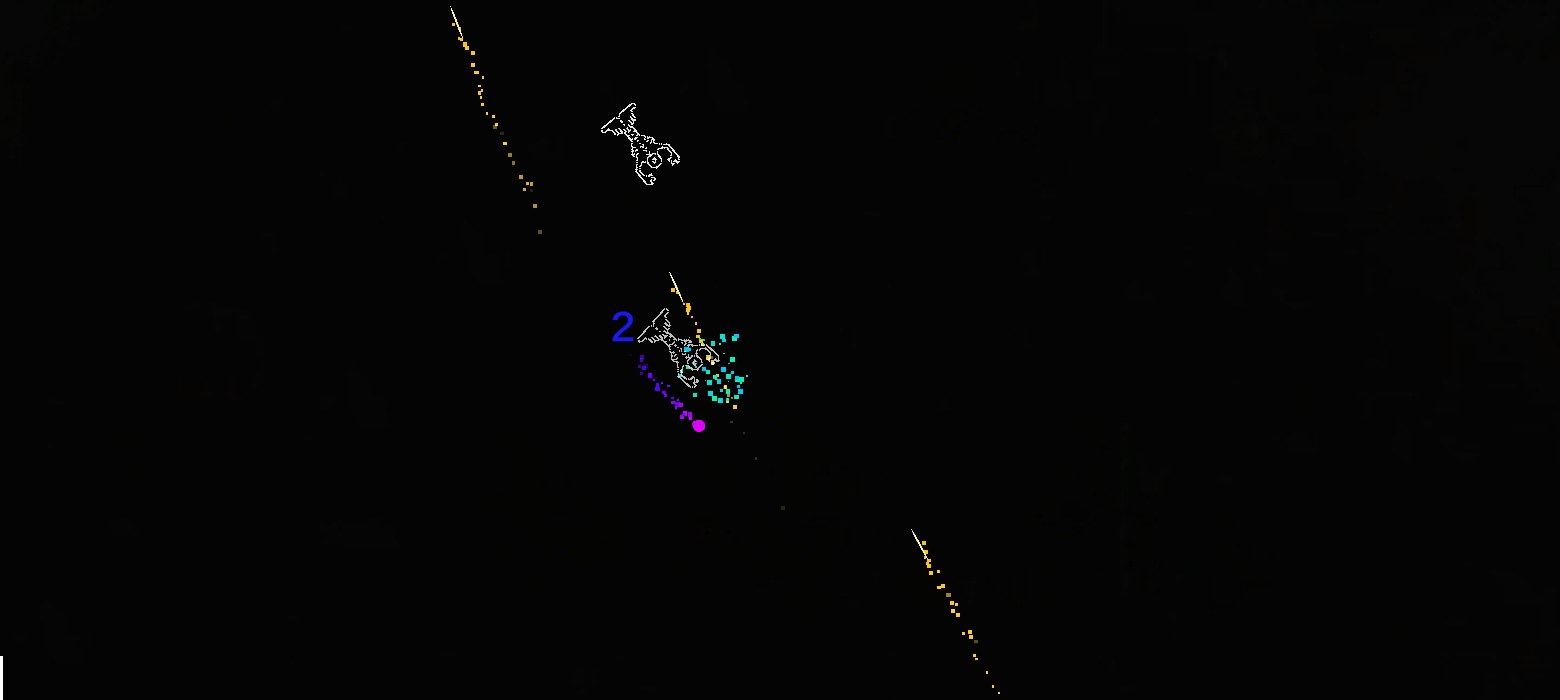enemy: (636, 307, 720, 389), (599, 103, 681, 186)
